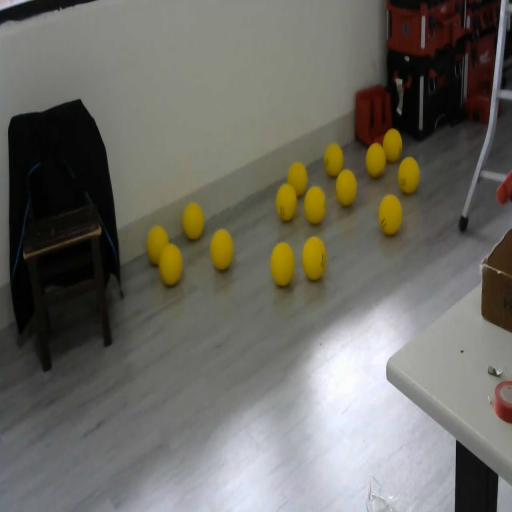FUEL: (269, 240, 296, 288), (301, 234, 327, 282), (157, 241, 184, 287), (210, 227, 234, 271), (378, 194, 402, 236), (304, 185, 326, 225), (335, 168, 357, 207), (275, 183, 297, 222), (398, 156, 420, 194), (182, 202, 204, 240), (287, 160, 308, 198), (365, 142, 386, 179), (383, 128, 403, 163), (324, 143, 344, 177)
